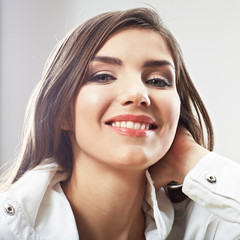teen: (25, 5, 190, 176)
